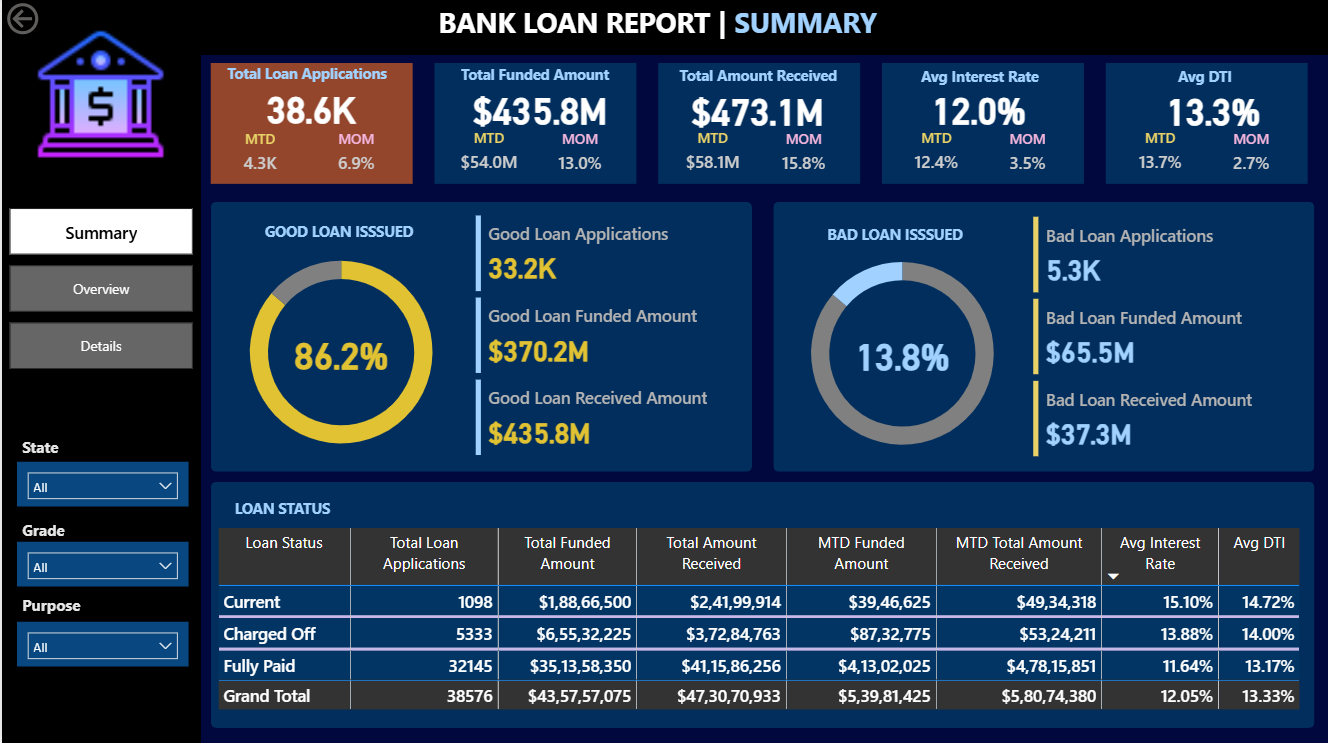

Layout of this report page (visuals, bound fields, positions):
{"tool":"powerbi","page":{"name":"Summary","canvas":[1280,720],"ordinal":0},"visuals":[{"type":"shape","box":[201.7,62.7,194.9,116.6],"z":0,"group":"g1"},{"type":"shape","box":[417.5,62.7,194.9,116.6],"z":0,"group":"g2"},{"type":"shape","box":[633.2,62.7,194.9,116.6],"z":0,"group":"g3"},{"type":"shape","box":[849.5,62.7,194.9,116.6],"z":0,"group":"g4"},{"type":"shape","box":[1065.3,62.7,194.9,116.6],"z":0,"group":"g5"},{"type":"shape","box":[201.5,196.6,522.4,260.6],"z":0},{"type":"shape","box":[0,0,1280.3,55],"z":1000},{"type":"card","fields":{"Values":["bank_loan_data.Total Funded Amount"]},"box":[437.5,83.5,162.9,47.1],"z":1000,"group":"g2"},{"type":"card","fields":{"Values":["bank_loan_data.Total Amount Received"]},"box":[642.6,83.5,172.5,48.3],"z":1000,"group":"g3"},{"type":"card","fields":{"Values":["bank_loan_data.Avg DTI"]},"box":[1083.1,83.5,171.3,48.3],"z":1000,"group":"g5"},{"type":"card","fields":{"Values":["bank_loan_data.Avg Interest Rate"]},"box":[856.1,83.7,174.9,45.8],"z":1000,"group":"g4"},{"type":"card","fields":{"Values":["bank_loan_data.Total Loan Applications"]},"box":[219.5,84.7,157.8,42.5],"z":1000,"group":"g1"},{"type":"shape","box":[0,54.9,192,665.5],"z":2000},{"type":"textbox","box":[212.9,58.2,177.3,36.2],"z":2000,"group":"g1"},{"type":"textbox","box":[437.5,59.4,177.3,36.2],"z":2000,"group":"g2"},{"type":"textbox","box":[634.2,60.6,190.6,35],"z":2000,"group":"g3"},{"type":"textbox","box":[882.6,61.8,148.4,31.4],"z":2000,"group":"g4"},{"type":"textbox","box":[1092.7,61.8,143.6,31.4],"z":2000,"group":"g5"},{"type":"card","title":"MTD","fields":{"Values":["bank_loan_data.MTD Funded Amount"]},"box":[436.7,126.2,66.5,52],"z":3000,"group":"g2"},{"type":"card","title":"MTD","fields":{"Values":["bank_loan_data.MTD Total Amount Received"]},"box":[652.4,126.2,66.5,52],"z":3000,"group":"g3"},{"type":"card","title":"MTD","fields":{"Values":["bank_loan_data.MTD Average Int Rate"]},"box":[868.7,126.2,66.5,52],"z":3000,"group":"g4"},{"type":"card","title":"MTD","fields":{"Values":["bank_loan_data.MTD Average DTI"]},"box":[1084.5,126.2,66.5,52],"z":3000,"group":"g5"},{"type":"card","title":"MTD","fields":{"Values":["bank_loan_data.MTD Loan Applications"]},"box":[219.5,127.2,59,52.1],"z":3000,"group":"g1"},{"type":"textbox","box":[248.5,211.1,172.5,29],"z":3000},{"type":"textbox","box":[415.6,0,448.7,50.8],"z":4000},{"type":"card","title":"MOM","fields":{"Values":["bank_loan_data.MOM Loan Applications"]},"box":[312.8,127.2,59,52.1],"z":4000,"group":"g1"},{"type":"card","title":"MOM","fields":{"Values":["bank_loan_data.MOM Total Funded Amount"]},"box":[528.6,127.2,59,52.1],"z":4000,"group":"g2"},{"type":"card","title":"MOM","fields":{"Values":["bank_loan_data.MOM Total Amount Received"]},"box":[744.3,127.2,59,52.1],"z":4000,"group":"g3"},{"type":"card","title":"MOM","fields":{"Values":["bank_loan_data.MOM Avg Int Rate"]},"box":[960.6,127.2,59,52.1],"z":4000,"group":"g4"},{"type":"card","title":"MOM","fields":{"Values":["bank_loan_data.MOM Avg DTI"]},"box":[1176.4,127.2,59,52.1],"z":4000,"group":"g5"},{"type":"group","id":"g1","title":"Group 1","box":[201.7,58.2,194.9,121.1],"z":5000},{"type":"group","id":"g2","title":"Group 1","box":[417.5,59.4,197.3,119.9],"z":6000},{"type":"group","id":"g3","title":"Group 1","box":[633.2,60.6,194.9,118.7],"z":7000},{"type":"group","id":"g4","title":"Group 1","box":[849.5,61.8,194.9,117.5],"z":8000},{"type":"group","id":"g5","title":"Group 1","box":[1065.3,61.8,194.9,117.5],"z":9000},{"type":"shape","box":[744.4,196.5,522.4,260.6],"z":10000},{"type":"donutChart","fields":{"Category":["bank_loan_data.Good Vs Bad loans"],"Y":["bank_loan_data.Total Loan Applications"]},"box":[202.7,226.8,249.7,230.4],"z":11000},{"type":"actionButton","box":[0,0,100,40],"z":12000},{"type":"card","fields":{"Values":["bank_loan_data.Good Loan %"]},"box":[240.1,319.7,174.9,45.8],"z":13000},{"type":"cardVisual","fields":{"Data":["bank_loan_data.Good Loan Applications","bank_loan_data.Good Loan Funded Amount","bank_loan_data.Good Loan Received Amount"]},"box":[452.4,205.1,266.6,242.5],"z":14000},{"type":"donutChart","fields":{"Category":["bank_loan_data.Good Vs Bad loans"],"Y":["bank_loan_data.Total Loan Applications"]},"box":[744.4,228,249.7,230.4],"z":15000},{"type":"textbox","box":[791.4,213.5,147.2,29],"z":16000},{"type":"card","fields":{"Values":["bank_loan_data.Bad Loan %"]},"box":[781.8,320.9,174.9,45.8],"z":17000},{"type":"shape","box":[201.5,466.9,1065.3,237.7],"z":18000},{"type":"cardVisual","fields":{"Data":["bank_loan_data.Bad Loan Applications","bank_loan_data.Bad Loan Funded Amount","bank_loan_data.Bad Loan Received Amount"]},"box":[990.5,206.3,266.6,242.5],"z":19000},{"type":"tableEx","fields":{"Values":["bank_loan_data.loan_status","bank_loan_data.Total Loan Applications","bank_loan_data.Total Funded Amount","bank_loan_data.Total Amount Received","bank_loan_data.MTD Funded Amount","bank_loan_data.MTD Total Amount Received","bank_loan_data.Avg Interest Rate","bank_loan_data.Avg DTI"]},"box":[202.7,506.7,1064.1,197.9],"z":20000},{"type":"textbox","box":[219.6,477.8,103.8,29],"z":21000},{"type":"slicer","fields":{"Values":["bank_loan_data.address_state"]},"box":[14.5,447.6,165.3,43.4],"z":22000},{"type":"textbox","box":[14.5,418.6,103.8,39.8],"z":23000},{"type":"slicer","fields":{"Values":["bank_loan_data.grade"]},"box":[14.5,524.8,165.3,43.4],"z":24000},{"type":"textbox","box":[14.5,498.3,103.8,37.4],"z":25000},{"type":"slicer","fields":{"Values":["bank_loan_data.purpose"]},"box":[14.5,602,165.3,43.4],"z":26000},{"type":"textbox","box":[14.5,570.6,103.8,37.4],"z":27000},{"type":"image","box":[14.5,13.3,161.7,159.3],"z":28000},{"type":"pageNavigator","box":[7.2,202.7,177.3,156.8],"z":29000}]}

Visuals, with their boxes in screenshot pixels (x1, y1, x2, y2), scaled from the page's 1280x720 canvas onto the 1328x743 screenshot:
shape: 209, 65, 411, 185
shape: 433, 65, 635, 185
shape: 657, 65, 859, 185
shape: 881, 65, 1084, 185
shape: 1105, 65, 1307, 185
shape: 209, 203, 751, 472
shape: 0, 0, 1327, 57
card - bank_loan_data.Total Funded Amount: 454, 86, 623, 135
card - bank_loan_data.Total Amount Received: 667, 86, 846, 136
card - bank_loan_data.Avg DTI: 1124, 86, 1301, 136
card - bank_loan_data.Avg Interest Rate: 888, 86, 1070, 134
card - bank_loan_data.Total Loan Applications: 228, 87, 391, 131
shape: 0, 57, 199, 742
textbox: 221, 60, 405, 97
textbox: 454, 61, 638, 99
textbox: 658, 63, 856, 99
textbox: 916, 64, 1070, 96
textbox: 1134, 64, 1283, 96
"MTD" card: 453, 130, 522, 184
"MTD" card: 677, 130, 746, 184
"MTD" card: 901, 130, 970, 184
"MTD" card: 1125, 130, 1194, 184
"MTD" card: 228, 131, 289, 185
textbox: 258, 218, 437, 248
textbox: 431, 0, 897, 52
"MOM" card: 325, 131, 386, 185
"MOM" card: 548, 131, 610, 185
"MOM" card: 772, 131, 833, 185
"MOM" card: 997, 131, 1058, 185
"MOM" card: 1221, 131, 1282, 185
"Group 1" group: 209, 60, 411, 185
"Group 1" group: 433, 61, 638, 185
"Group 1" group: 657, 63, 859, 185
"Group 1" group: 881, 64, 1084, 185
"Group 1" group: 1105, 64, 1307, 185
shape: 772, 203, 1314, 472
donutChart - bank_loan_data.Good Vs Bad loans x bank_loan_data.Total Loan Applications: 210, 234, 469, 472
actionButton: 0, 0, 104, 41
card - bank_loan_data.Good Loan %: 249, 330, 431, 377
cardVisual - bank_loan_data.Good Loan Applications x bank_loan_data.Good Loan Funded Amount: 469, 212, 746, 462
donutChart - bank_loan_data.Good Vs Bad loans x bank_loan_data.Total Loan Applications: 772, 235, 1031, 473
textbox: 821, 220, 974, 250
card - bank_loan_data.Bad Loan %: 811, 331, 993, 378
shape: 209, 482, 1314, 727
cardVisual - bank_loan_data.Bad Loan Applications x bank_loan_data.Bad Loan Funded Amount: 1028, 213, 1304, 463
tableEx - bank_loan_data.loan_status x bank_loan_data.Total Loan Applications: 210, 523, 1314, 727
textbox: 228, 493, 336, 523
slicer - bank_loan_data.address_state: 15, 462, 187, 507
textbox: 15, 432, 123, 473
slicer - bank_loan_data.grade: 15, 542, 187, 586
textbox: 15, 514, 123, 553
slicer - bank_loan_data.purpose: 15, 621, 187, 666
textbox: 15, 589, 123, 627
image: 15, 14, 183, 178
pageNavigator: 7, 209, 191, 371
